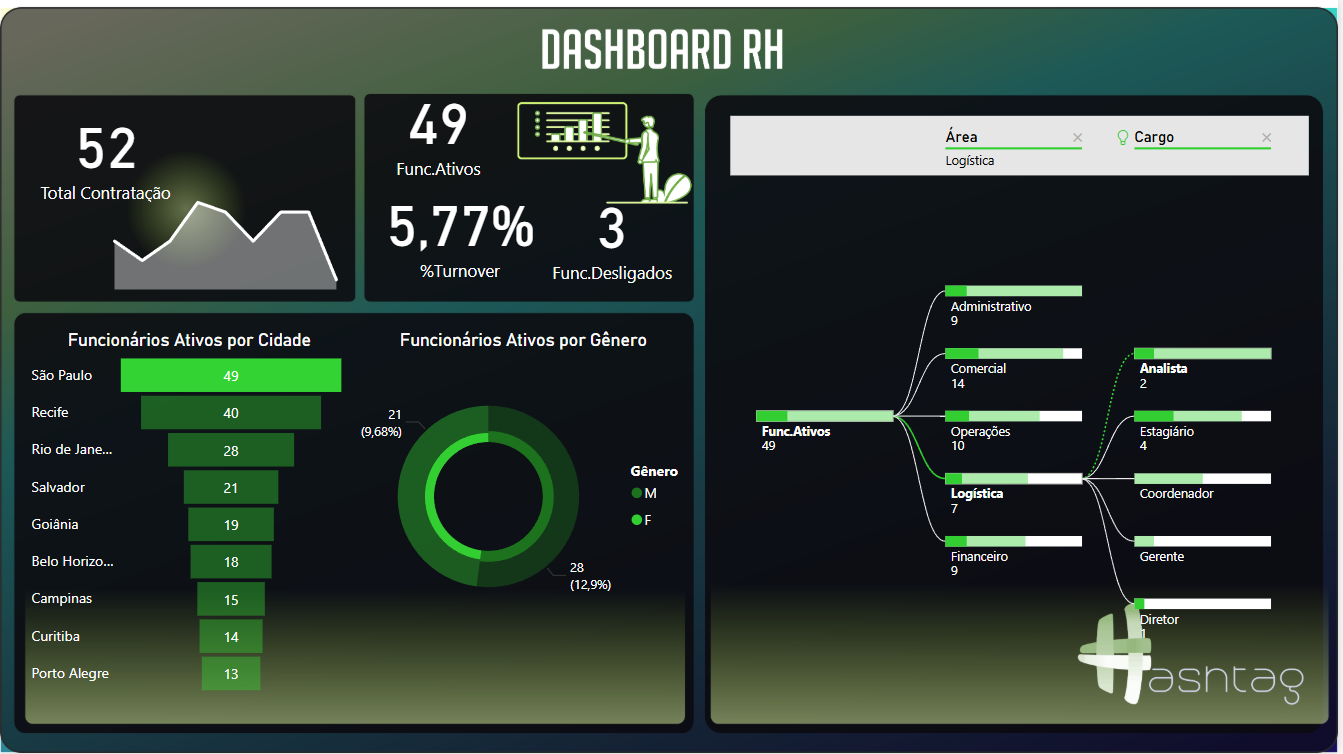

The page's visual inventory and layout, read from the dashboard file:
{"tool":"powerbi","page":{"name":"Página 1","canvas":[1280,720],"ordinal":0},"visuals":[{"type":"card","fields":{"Values":["Plan1.Total Contratações"]},"box":[359.5,68.8,127.9,111],"z":0},{"type":"card","fields":{"Values":["Plan1.Total Contratação"]},"box":[29,95.3,155.6,105],"z":1000},{"type":"card","fields":{"Values":["Plan1.Func.Desligados"]},"box":[524.8,167.7,127.9,112.2],"z":2000},{"type":"lineChart","fields":{"Category":["Plan1.Data de Contratacao.Variation.Hierarquia de datas.Ano"],"Y":["Plan1.Total Contratação"]},"box":[100.1,172.5,241.3,112.2],"z":3000},{"type":"card","fields":{"Values":["Plan1.%Turnover"]},"box":[363.1,167.7,161.7,108.6],"z":4000},{"type":"funnel","title":"Funcionários Ativos por Cidade","fields":{"Y":["Plan1.Func.Ativos"],"Category":["Plan1.Cidade"]},"box":[31.4,316.1,310.1,352.3],"z":5000},{"type":"donutChart","title":"Funcionários Ativos por Gênero","fields":{"Y":["Plan1.Func.Ativos"],"Category":["Plan1.Genero"]},"box":[330.6,316.1,346.2,299.2],"z":6000},{"type":"decompositionTreeVisual","fields":{"Analyze":["Plan1.Func.Ativos"],"ExplainBy":["Plan1.Área","Plan1.Cargo"]},"box":[696.1,108.6,561,559.8],"z":7000}]}

Visuals, with their boxes in screenshot pixels (x1, y1, x2, y2), scaled from the page's 1280x720 canvas onto the 1343x754 screenshot:
card - Plan1.Total Contratações: <region>377, 72, 511, 188</region>
card - Plan1.Total Contratação: <region>30, 100, 194, 210</region>
card - Plan1.Func.Desligados: <region>551, 176, 685, 293</region>
lineChart - Plan1.Data de Contratacao.Variation.Hierarquia de datas.Ano x Plan1.Total Contratação: <region>105, 181, 358, 298</region>
card - Plan1.%Turnover: <region>381, 176, 551, 289</region>
"Funcionários Ativos por Cidade" funnel: <region>33, 331, 358, 700</region>
"Funcionários Ativos por Gênero" donutChart: <region>347, 331, 710, 644</region>
decompositionTreeVisual - Plan1.Func.Ativos x Plan1.Área: <region>730, 114, 1319, 700</region>
